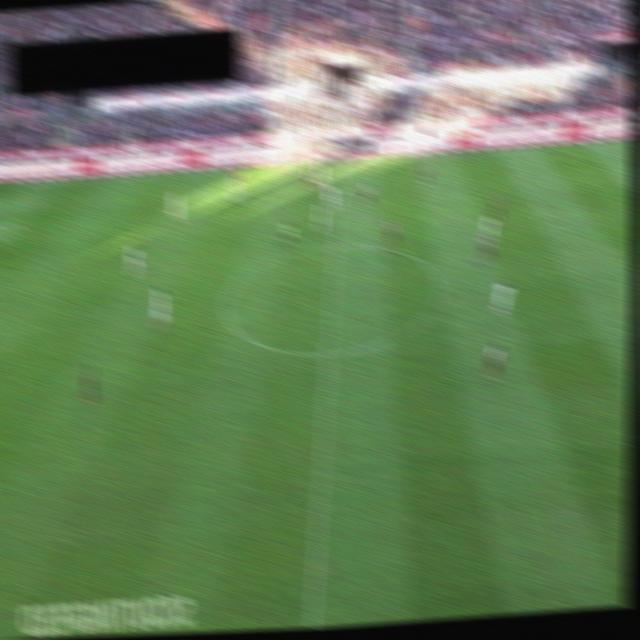bigarea_top_inner: (8, 217, 25, 230)
halfcircle_bottom: (317, 345, 338, 362)
halfcircle_top: (325, 238, 344, 253)
midline_top_intersection: (332, 156, 350, 169)
